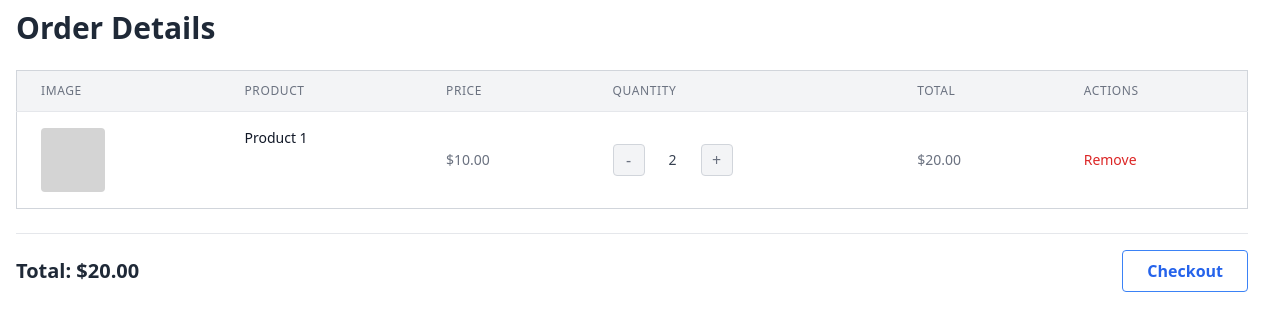
it: Cart Component › handles quantity adjustment
Click the button "-" at (628, 160), box x1=612 y1=144 x2=644 y2=176
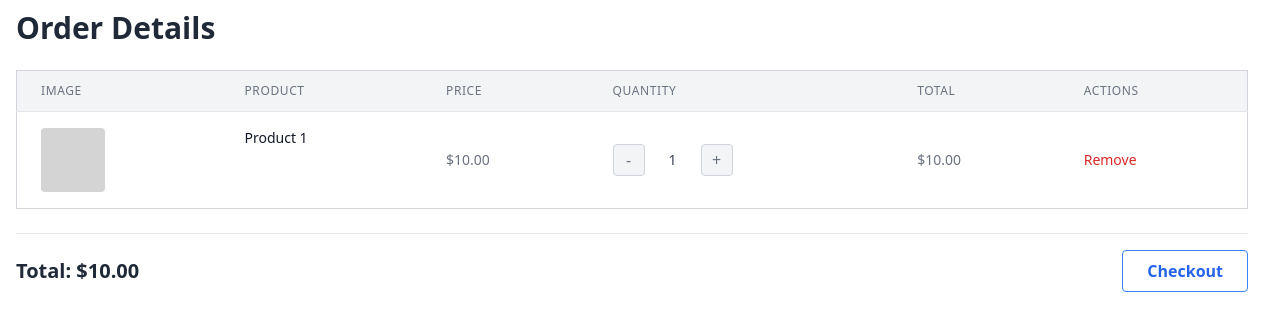
Check: the text "1" is shown, box x1=668 y1=150 x2=676 y2=169
Click the button "+" at (716, 160), box x1=700 y1=144 x2=732 y2=176
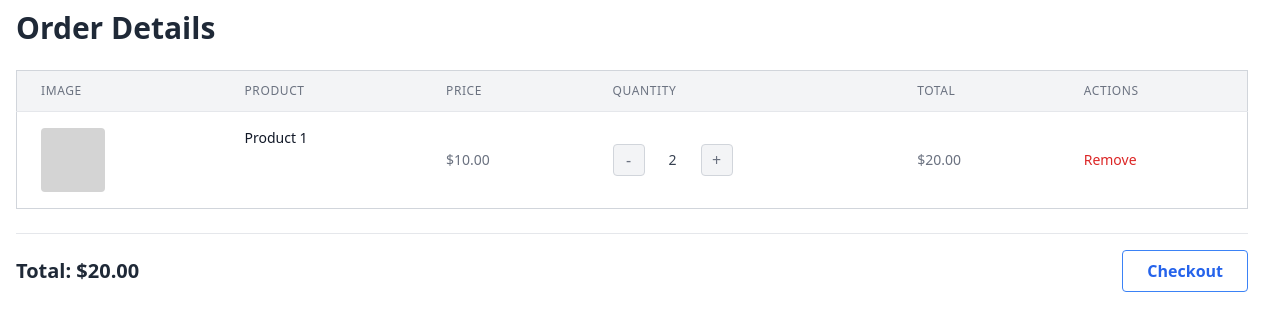
Check: the text "2" is shown, box x1=668 y1=150 x2=676 y2=169
